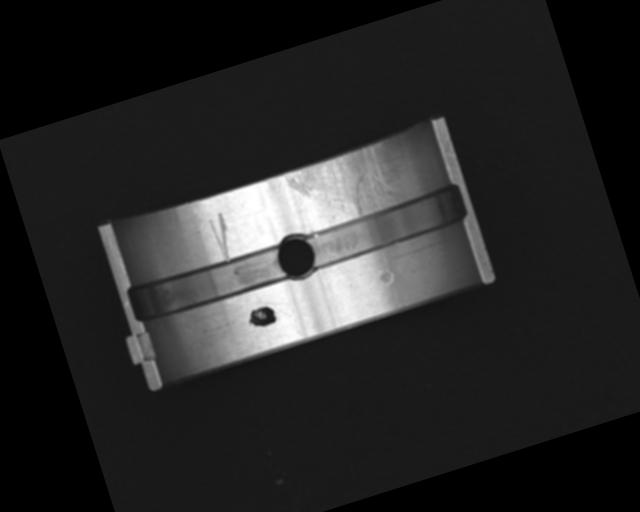blot: (244, 303, 278, 332)
bruise: (377, 266, 396, 287)
gap: (301, 181, 471, 270), (126, 243, 286, 325)
hole: (271, 229, 321, 285)
nick: (206, 211, 238, 265)
scratch: (282, 138, 405, 236)
